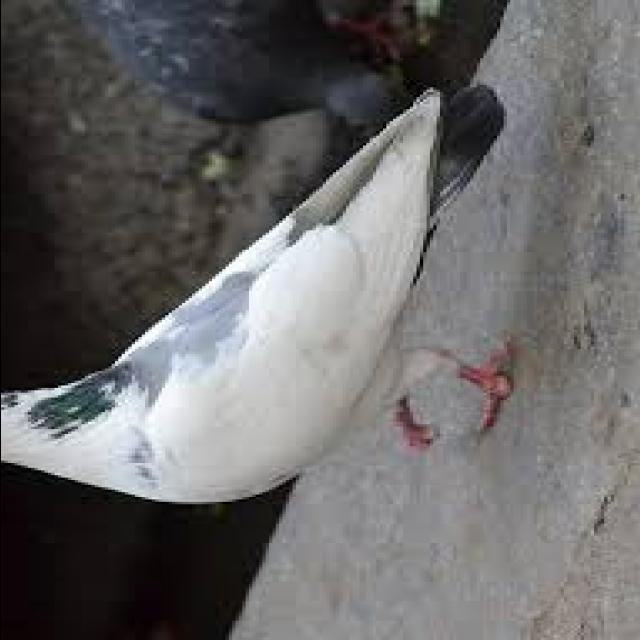pigeon: (0, 80, 509, 560)
